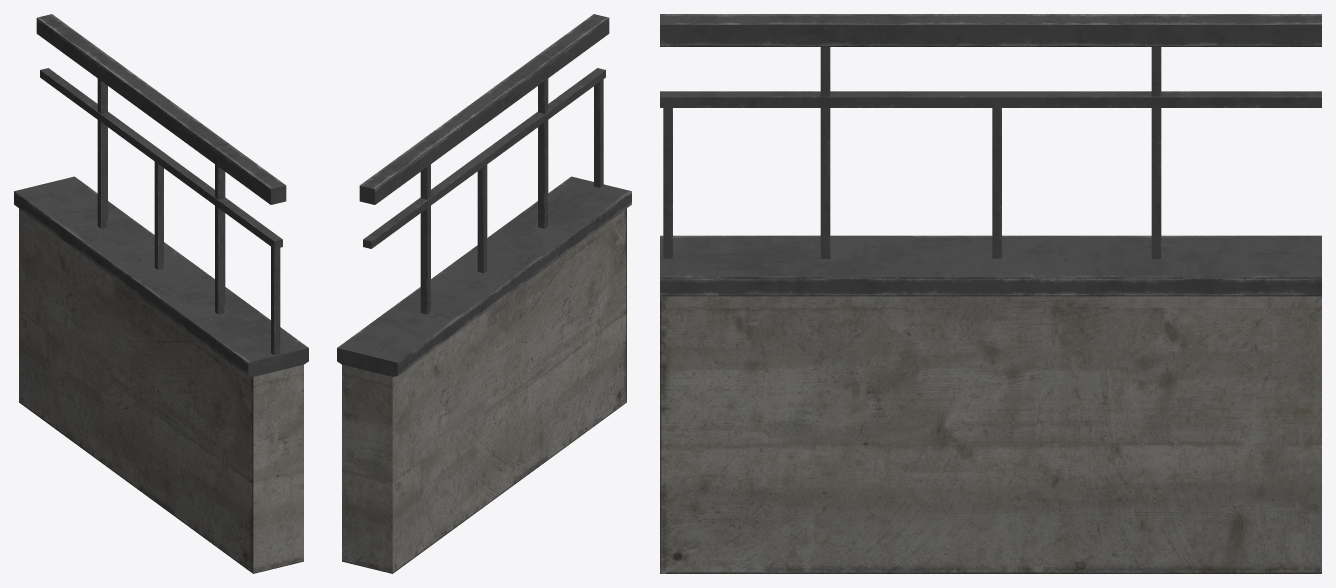
The model's file is CP_Parapet_D_2m.fbx.
3 renders of one model, left to right at view 1: azimuth 30°, elevation 25°; view 2: azimuth 150°, elevation 25°; view 3: azimuth 270°, elevation 25°, orthographic. The views are drawn at different scales.
Visible parts, largest first — view 1: CP_Parapet_D_2m; view 2: CP_Parapet_D_2m; view 3: CP_Parapet_D_2m.
Part boxes in pixels (bbox=[...]): CP_Parapet_D_2m: bbox=[14, 14, 308, 573]; CP_Parapet_D_2m: bbox=[337, 14, 631, 573]; CP_Parapet_D_2m: bbox=[660, 14, 1321, 573].
Bounding box in the file's own units: 29.88 × 179 × 200.
